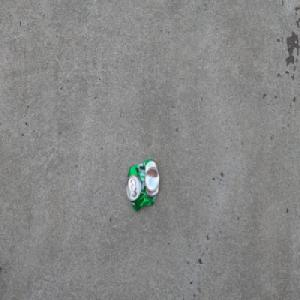SodaCan: (125, 157, 160, 212)
